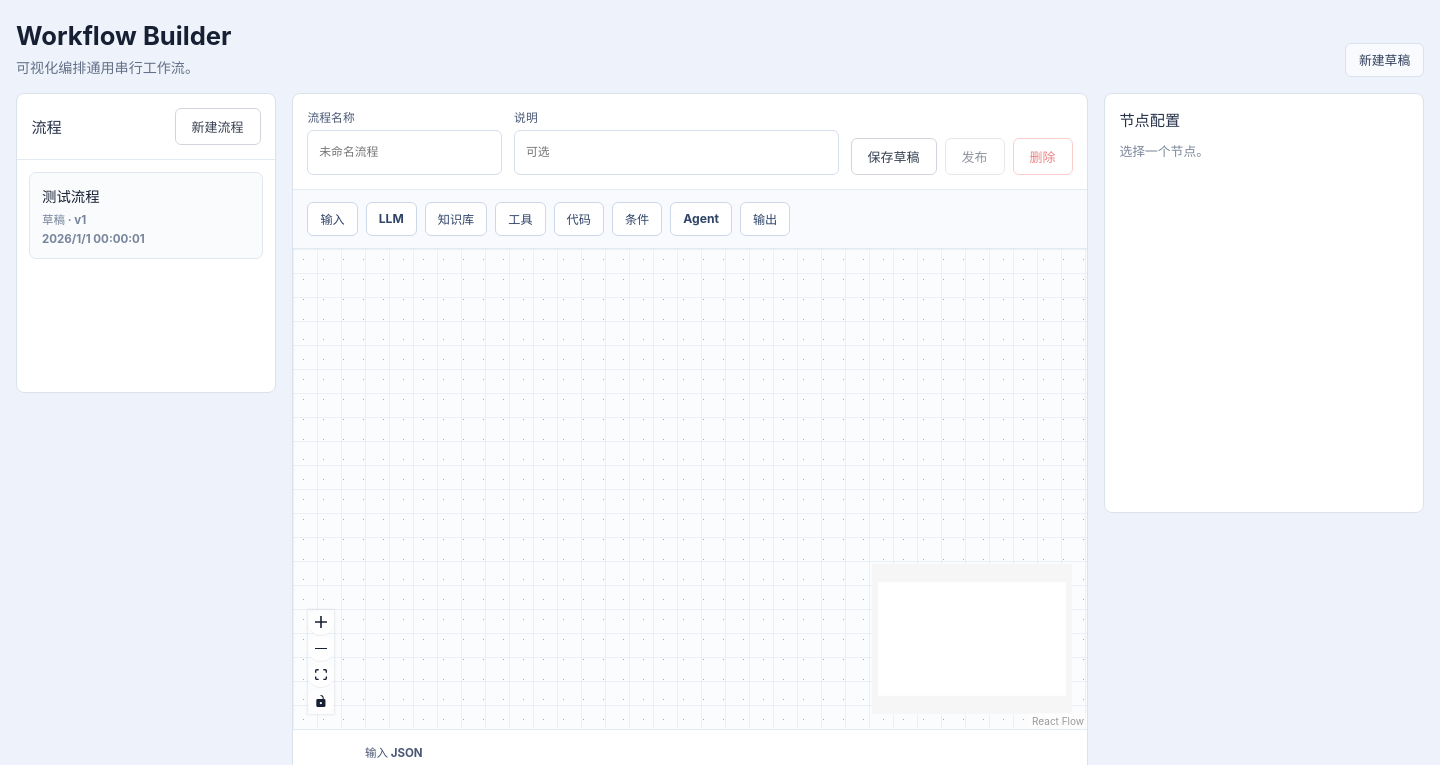
WorkflowBuilder › publishes a validated draft and updates the status
This screenshot has width=1440, height=765.
Step 1. Click the button "测试流程 草稿 · v1 2026/1/1 00:00:01" → (146, 216), box [29,172,263,259]
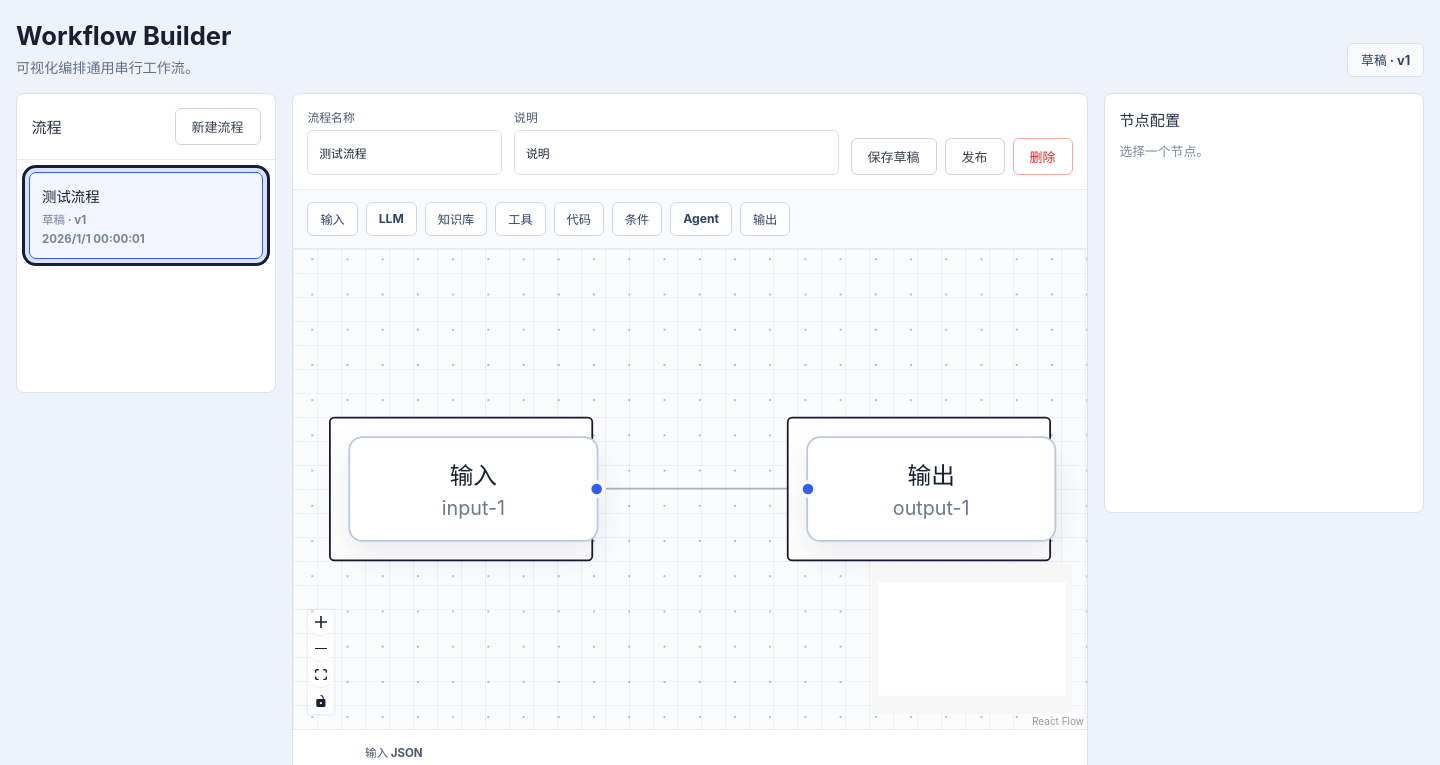
Step 2. Click the button "发布" → (975, 156), box [945,138,1005,175]
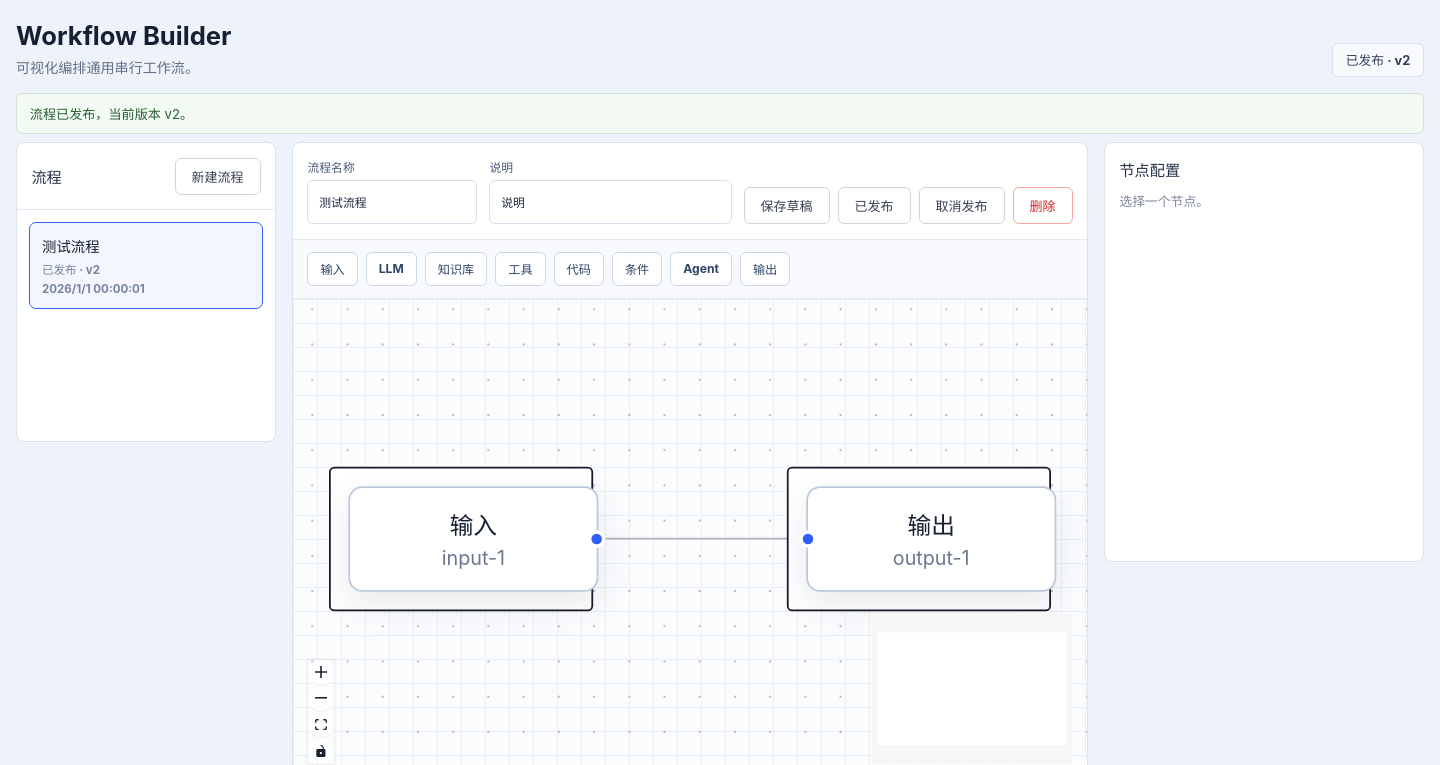
Expected: the text "流程已发布，当前版本 v2。" is shown, [16,93,1424,134]
Expected: the button "已发布" is shown, [838,187,911,224]
